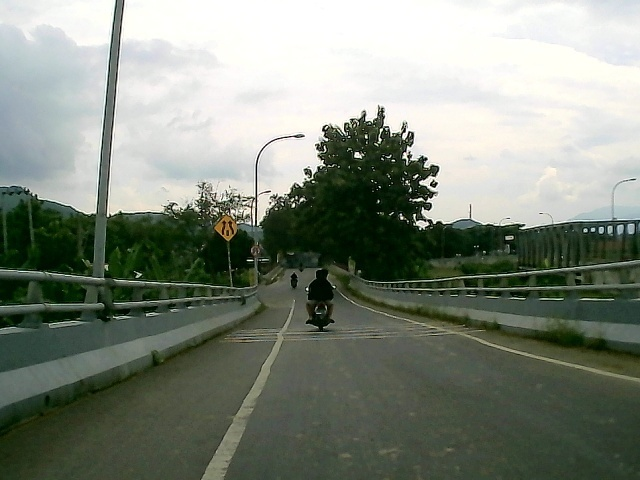Akhir bangunan pemisah satu arah: (214, 213, 241, 242)
